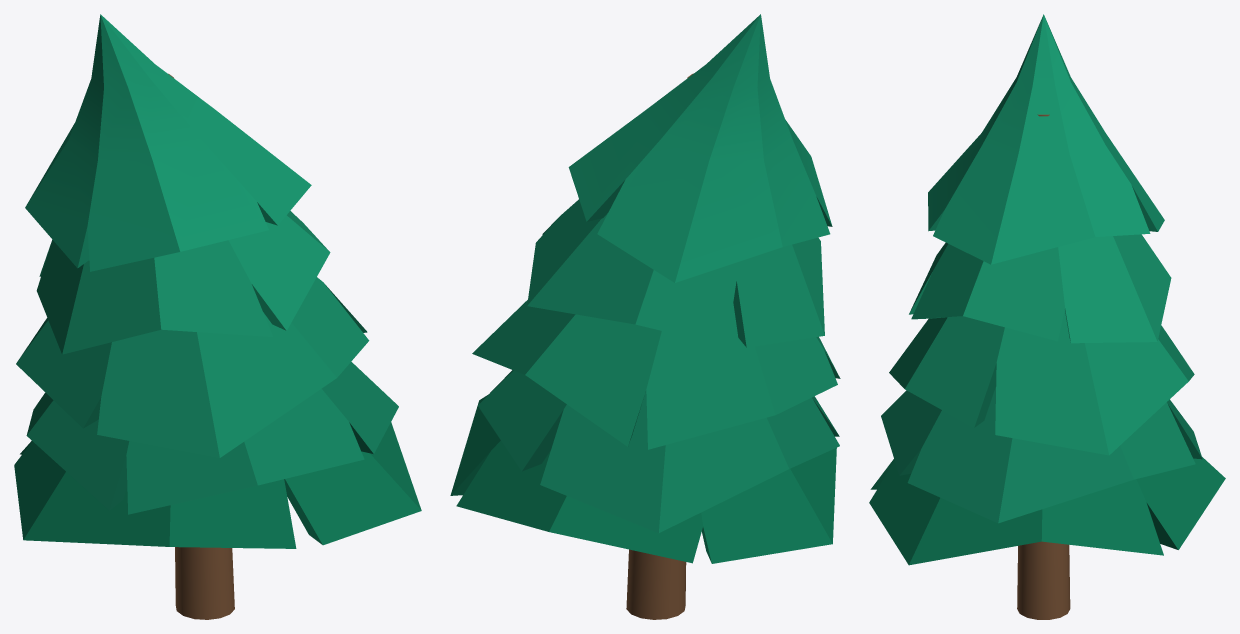
File: Spruce_Turquoise_Thick_2.fbx
The picture shows the model from 3 angles, left to right: view 1: azimuth 30°, elevation 25°; view 2: azimuth 150°, elevation 25°; view 3: azimuth 270°, elevation 25°; orthographic projection. The views are drawn at different scales.
Visible parts, largest first — view 1: Cylinder.1081, Cylinder.1080, Cylinder.1077, Cylinder.1079, Cylinder.1078, Cylinder.1076; view 2: Cylinder.1081, Cylinder.1080, Cylinder.1078, Cylinder.1079, Cylinder.1077, Cylinder.1076; view 3: Cylinder.1081, Cylinder.1080, Cylinder.1078, Cylinder.1079, Cylinder.1077, Cylinder.1076.
Boxes of the visible parts, x1,y1,x2,y2 form: Cylinder.1081: [25, 14, 311, 271]; Cylinder.1080: [16, 277, 369, 457]; Cylinder.1077: [14, 422, 421, 548]; Cylinder.1079: [36, 211, 330, 354]; Cylinder.1078: [26, 361, 398, 514]; Cylinder.1076: [168, 73, 234, 619]; Cylinder.1081: [568, 14, 832, 282]; Cylinder.1080: [472, 300, 840, 449]; Cylinder.1078: [478, 370, 839, 533]; Cylinder.1079: [527, 199, 824, 347]; Cylinder.1077: [450, 394, 836, 563]; Cylinder.1076: [626, 73, 693, 619]; Cylinder.1081: [928, 14, 1164, 264]; Cylinder.1080: [889, 310, 1194, 455]; Cylinder.1078: [881, 386, 1202, 523]; Cylinder.1079: [909, 234, 1171, 343]; Cylinder.1077: [869, 457, 1225, 565]; Cylinder.1076: [1017, 114, 1070, 619].
Size of the model in its own units: 343 by 568 by 334.
